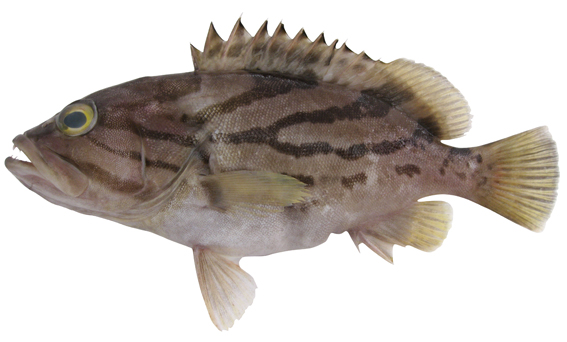fish: (4, 10, 560, 331)
